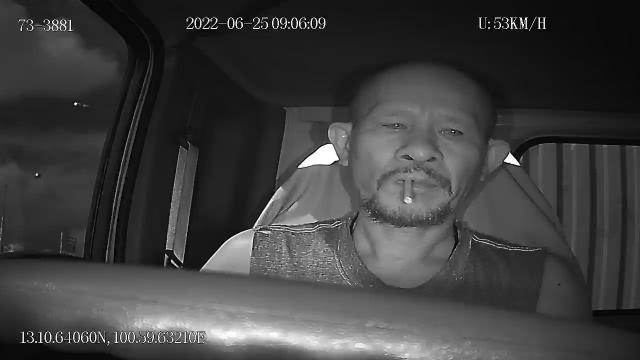SafeDriving: (431, 115, 470, 144), (374, 112, 414, 137)
Smoking: (402, 177, 414, 205)
